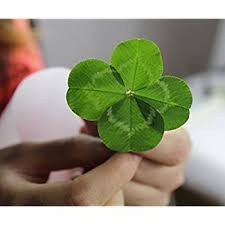4-clover: (69, 39, 191, 152)
